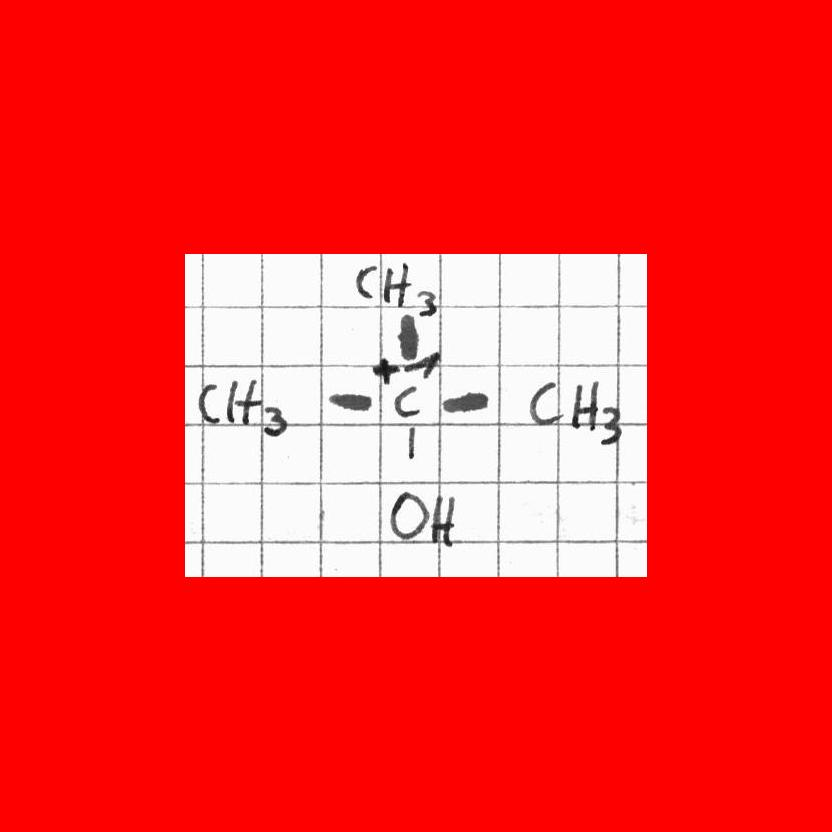Char: (388, 487, 425, 543), (225, 375, 260, 432), (526, 378, 562, 430), (425, 493, 458, 549), (440, 387, 491, 418), (570, 377, 597, 433), (400, 349, 440, 381), (196, 378, 222, 427), (384, 260, 409, 307), (395, 312, 420, 359), (599, 401, 623, 448), (391, 385, 421, 421), (327, 388, 368, 413), (261, 403, 288, 438), (354, 263, 377, 302), (416, 286, 438, 318), (401, 423, 421, 458), (373, 355, 397, 384)
